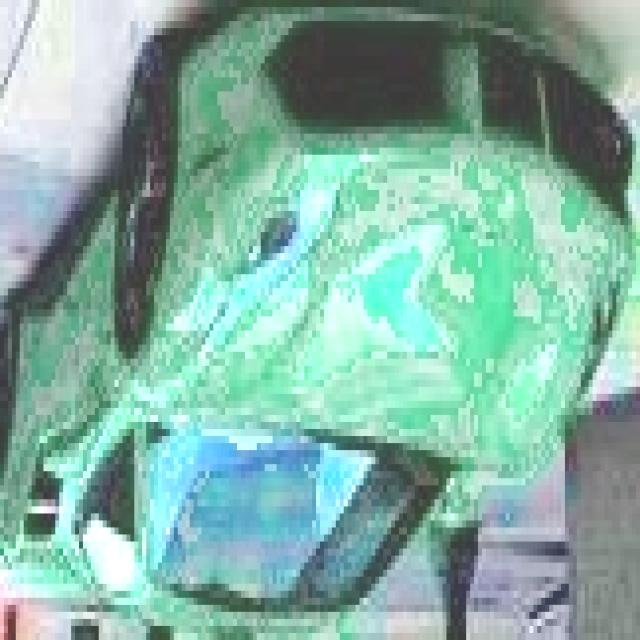green: (0, 0, 628, 633)
